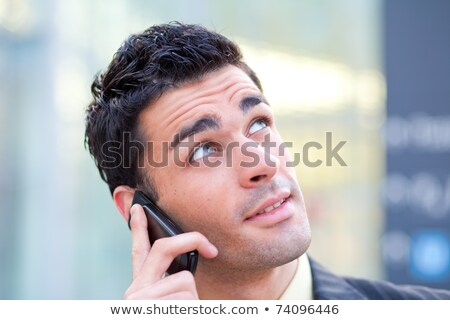phone: (111, 190, 201, 277)
talk: (111, 79, 309, 298)
